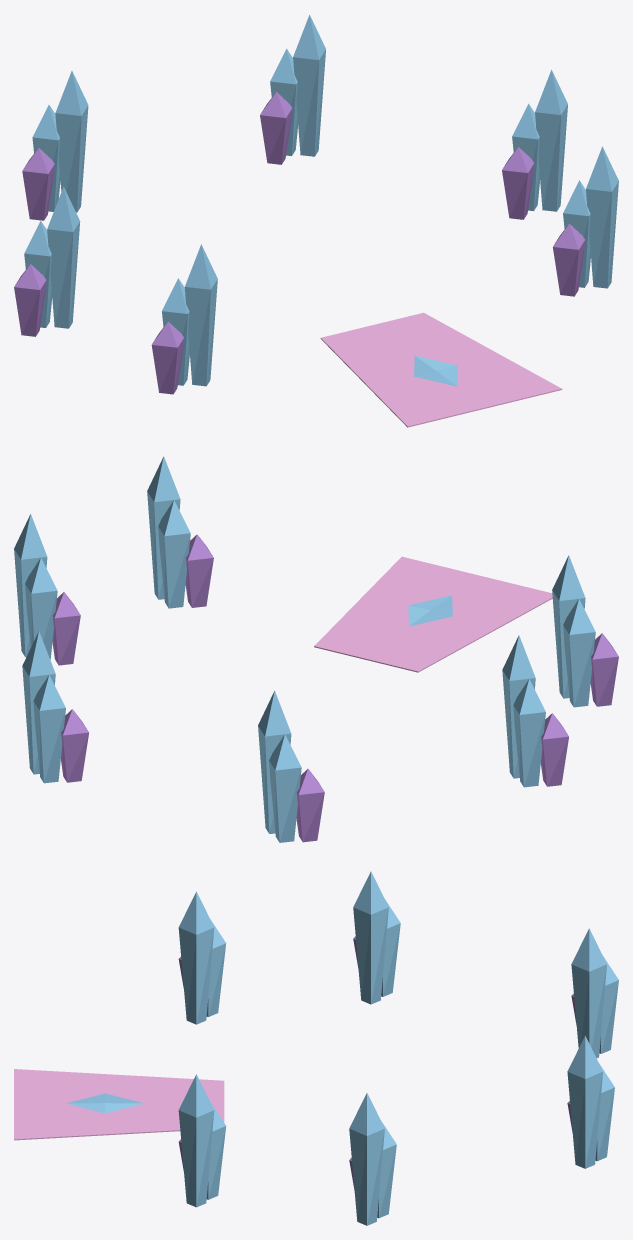
The model's file is decoration.glb.
3 views of the same model, one above another, from view 1: azimuth 30°, elevation 25°; view 2: azimuth 150°, elevation 25°; view 3: azimuth 270°, elevation 25° (orthographic). The views are drawn at different scales.
Parts seen in each view (by area): view 1: 05_CrystalGardenAndDiamondPaving; view 2: 05_CrystalGardenAndDiamondPaving; view 3: 05_CrystalGardenAndDiamondPaving.
Boxes of the visible parts, x1=… form: 05_CrystalGardenAndDiamondPaving: x1=14, y1=15, x2=618, y2=427; 05_CrystalGardenAndDiamondPaving: x1=14, y1=456, x2=618, y2=842; 05_CrystalGardenAndDiamondPaving: x1=14, y1=871, x2=618, y2=1225.
Bounding box in the file's own units: 1.5 × 0.36 × 1.53.
